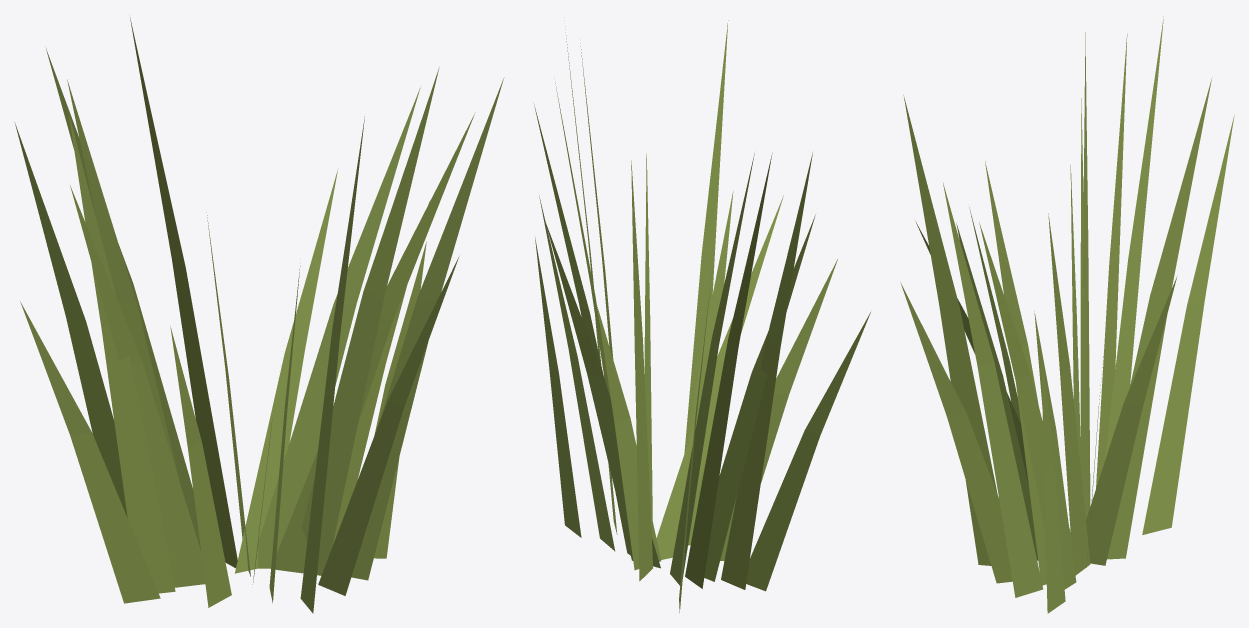
Rendered from Grass_Tuft_B.fbx.
3 renders of one model, left to right at view 1: azimuth 30°, elevation 25°; view 2: azimuth 150°, elevation 25°; view 3: azimuth 270°, elevation 25°, orthographic. The views are drawn at different scales.
Parts seen in each view (by area): view 1: Grass_Tuft_B.001; view 2: Grass_Tuft_B.001; view 3: Grass_Tuft_B.001.
Part boxes in pixels (x1,y1,x2,y2): Grass_Tuft_B.001: (14,17,504,613); Grass_Tuft_B.001: (534,20,870,612); Grass_Tuft_B.001: (900,16,1234,613).
Size of the model in its own units: 0.4462 by 0.5487 by 0.3479.
